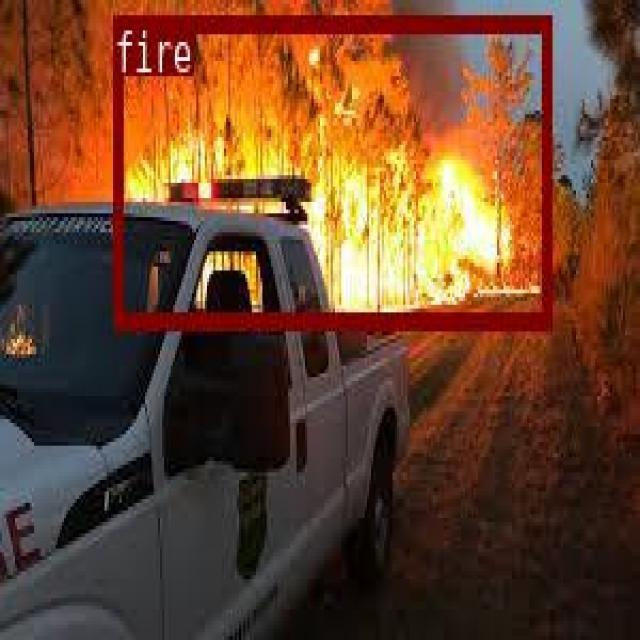fire: (113, 12, 550, 327)
